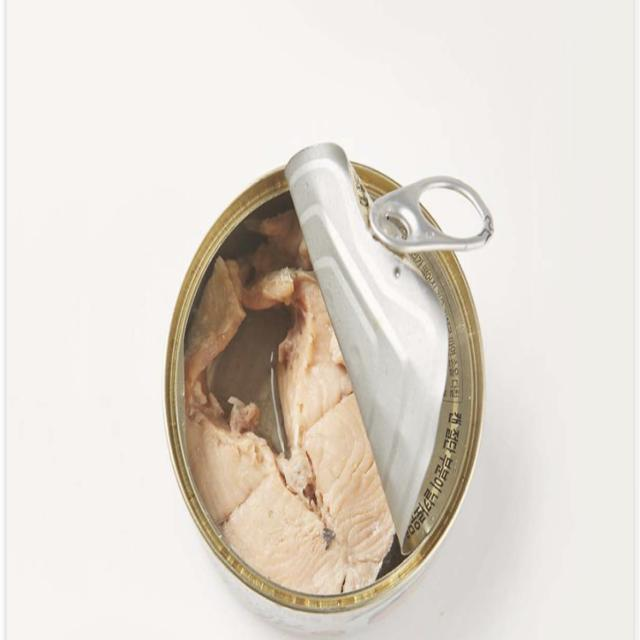recyclable: (136, 130, 525, 630)
